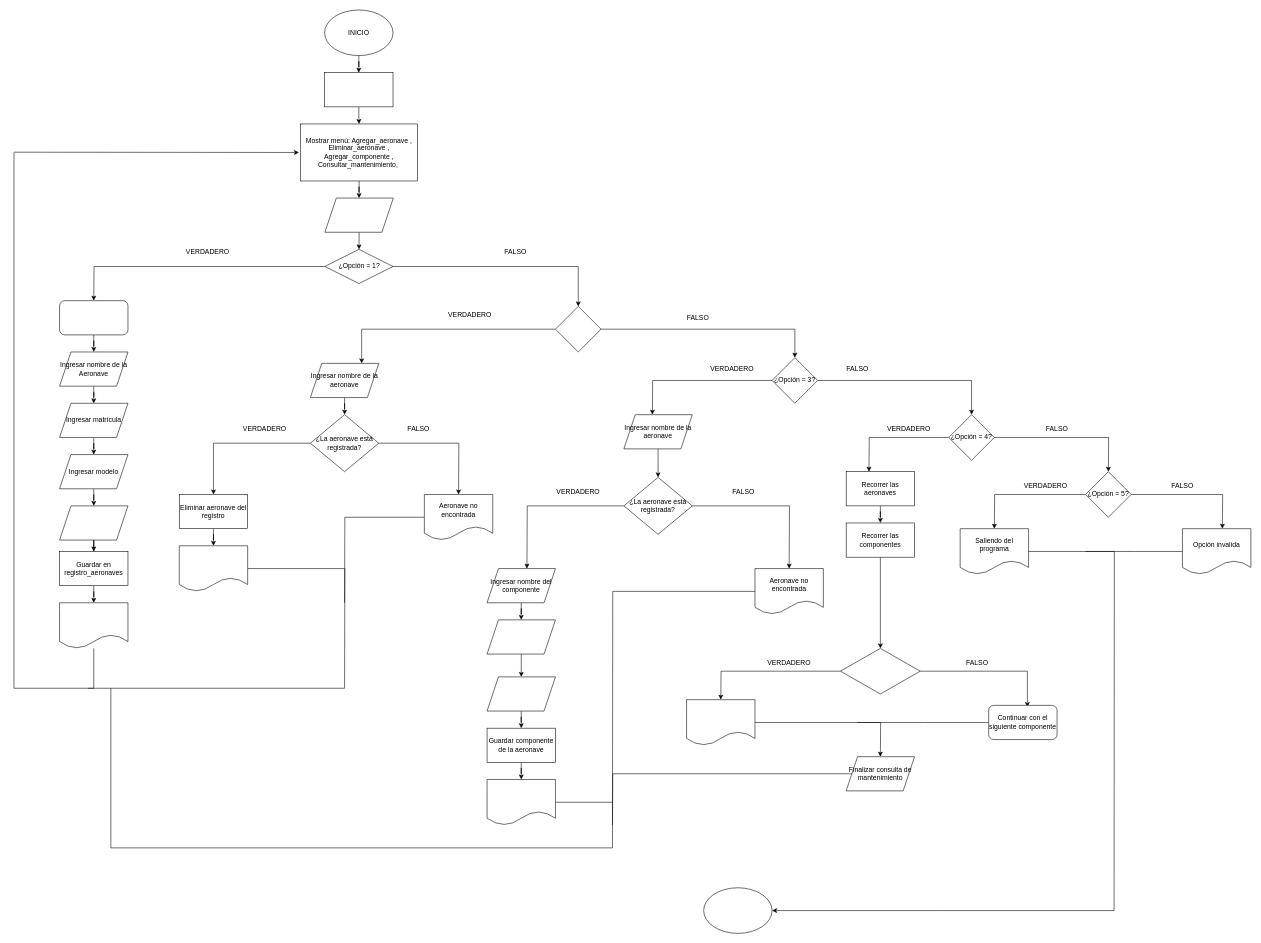
Image size: 1261x943. Some labels were removed from this diagram. The shapes that lost their labels are listed below. From the top down, each one's centre as x and y in pixels, then its label:
At point 358,89: "Crear registro_aeronaves".
At point 358,215: "Ingresar opción".
At point 93,317: "Proceso para Agregar_aeronave".
At point 578,329: "¿Opción = 2?".
At point 93,522: "Ingresar horas de vuelo".
At point 213,568: "Aeronave elminada".
At point 93,625: "Se agregó la aeronave".
At point 520,636: "Ingresar horas de uso".
At point 880,671: "¿Horas de uso >= horas límite?".
At point 520,693: "Ingresar horas límite".
At point 720,722: "El componente requiere mantenimiento".
At point 520,802: "Componente agregado correctamente".
At point 737,910: "FIN".
